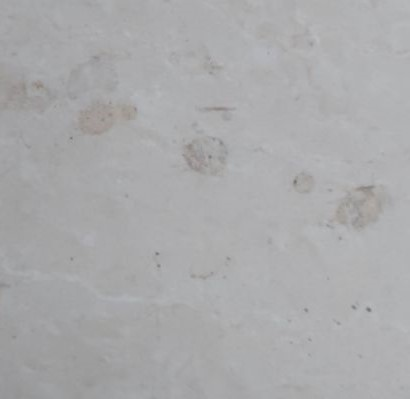grey spot: (325, 185, 393, 236), (183, 133, 227, 173), (77, 101, 114, 134), (294, 173, 313, 192), (123, 106, 136, 121)
